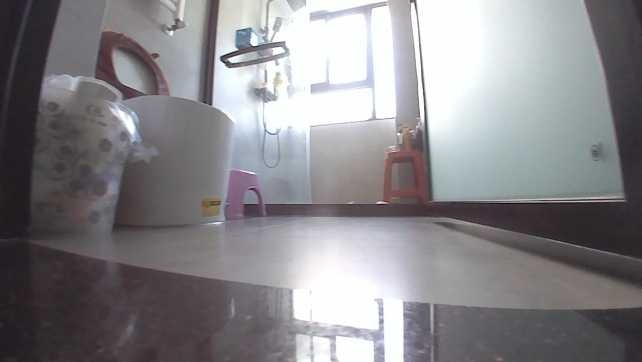plastic_stool: (376, 145, 427, 203), (227, 168, 268, 220)
toilet: (121, 87, 236, 225)
trash_can: (40, 80, 135, 231)
